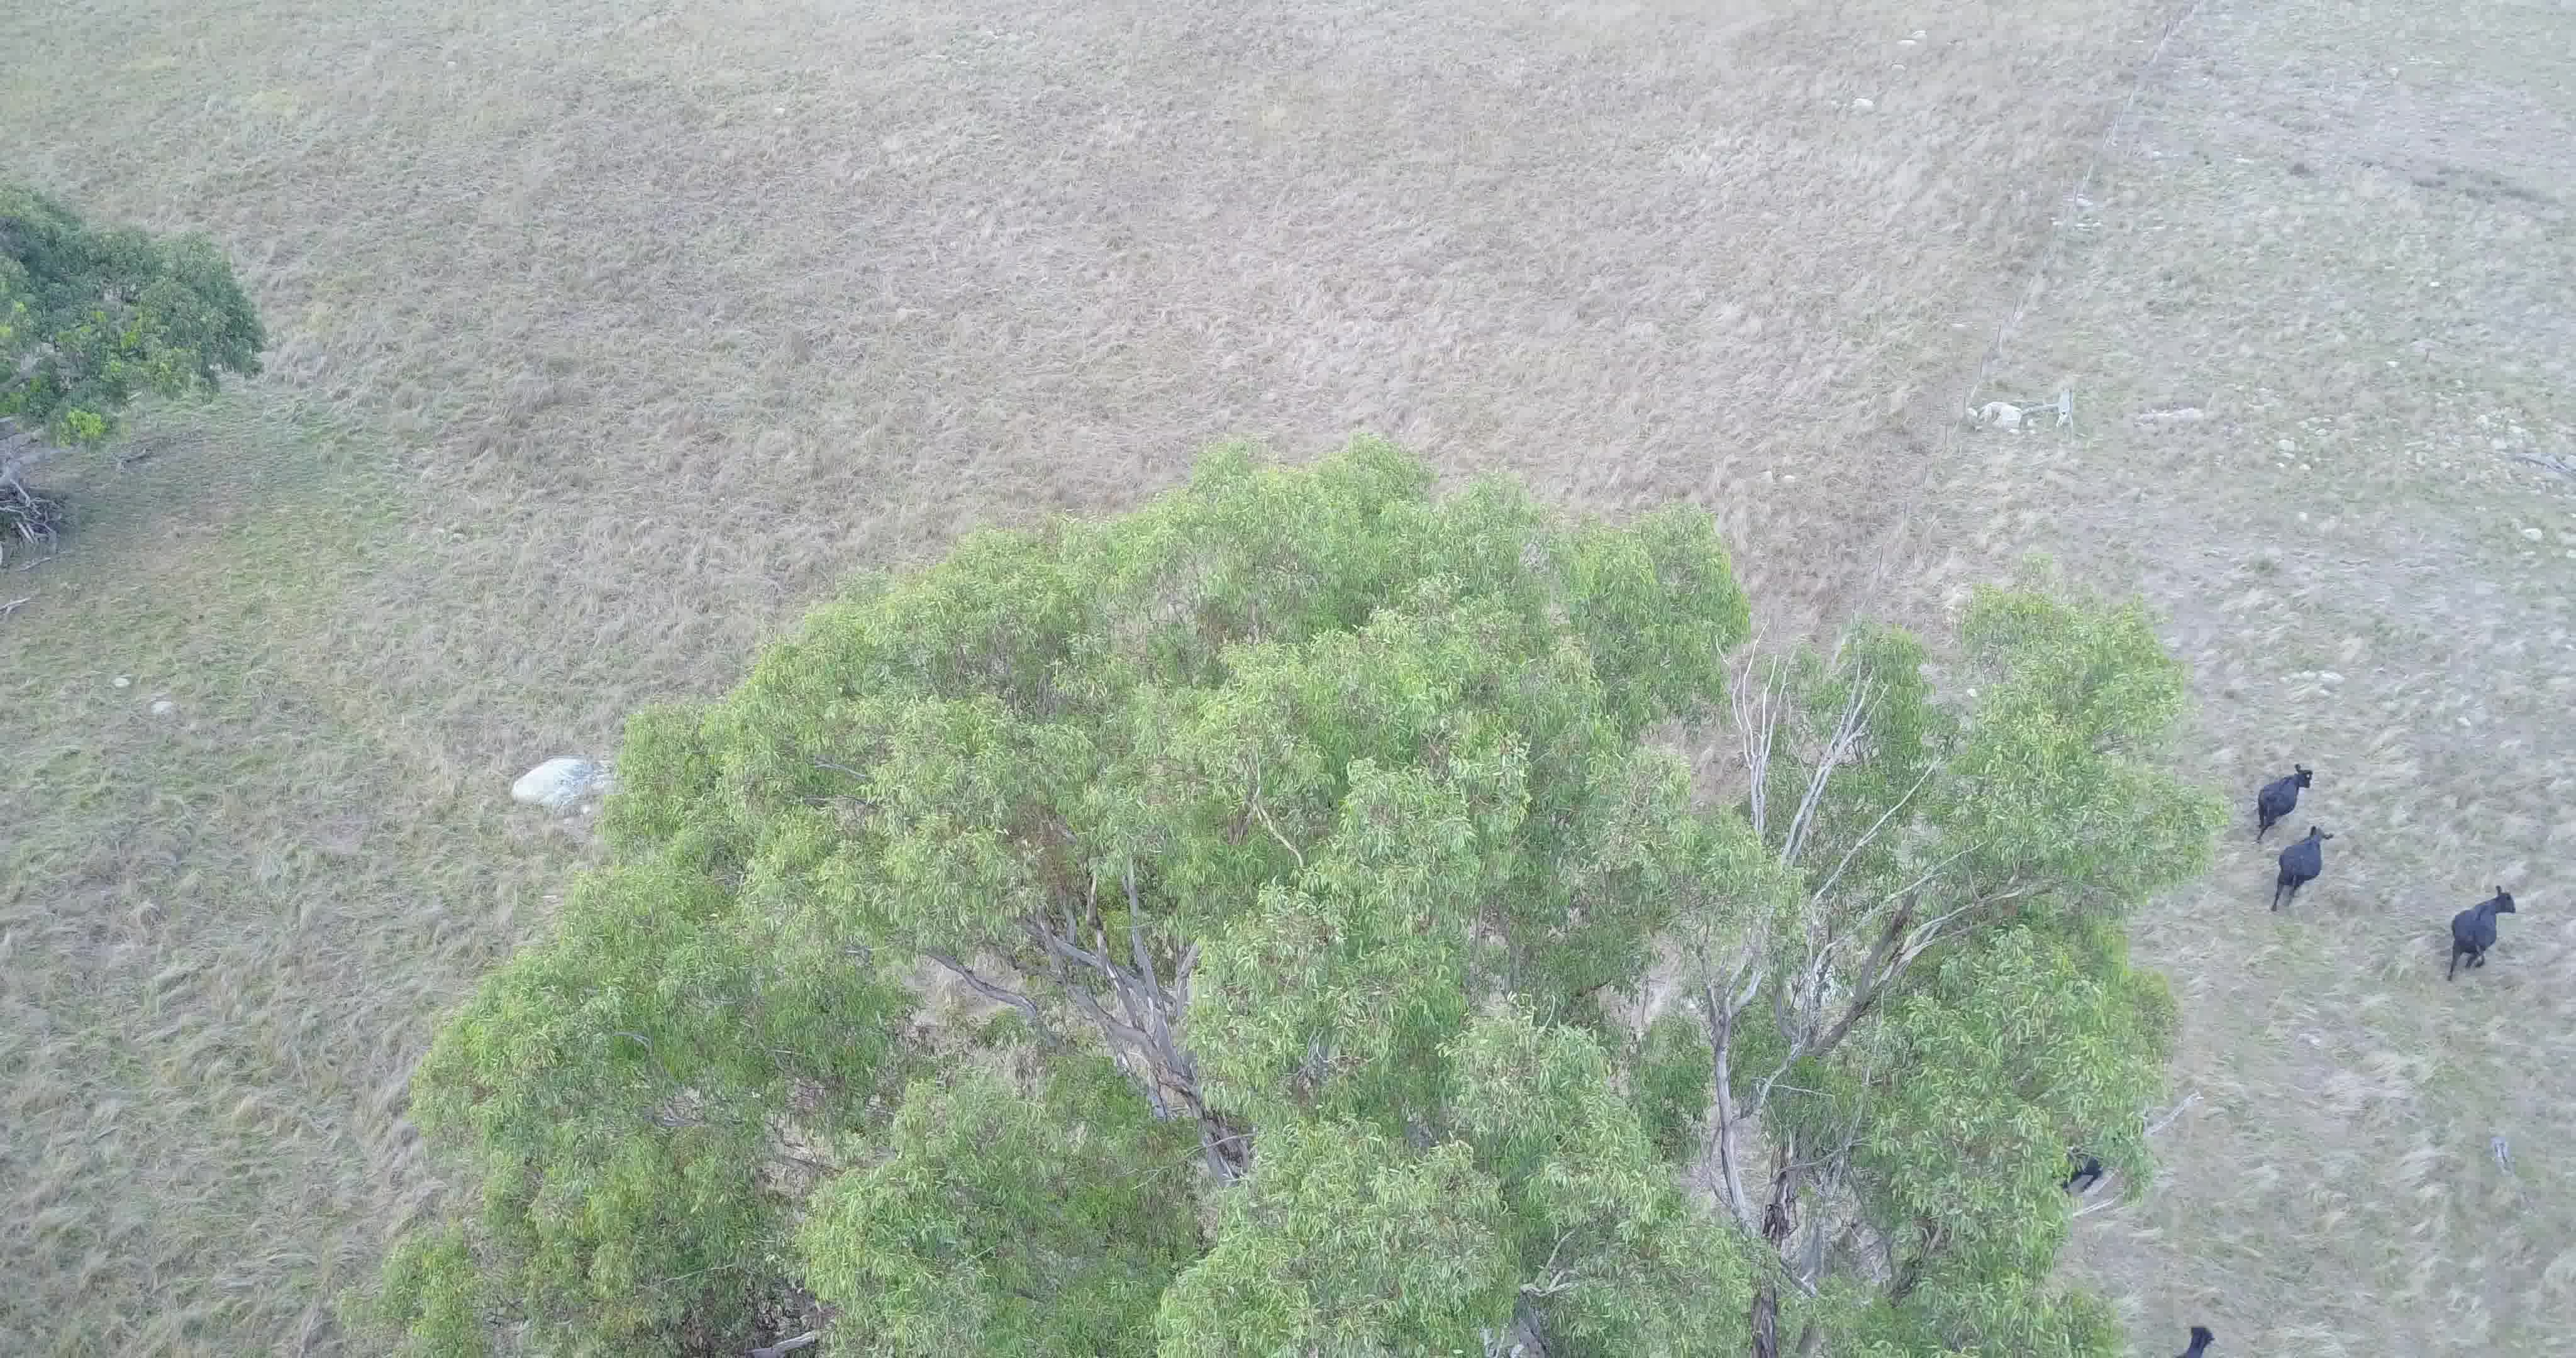cattle: (2441, 879, 2518, 988), (2269, 821, 2339, 922), (2252, 760, 2315, 826), (2153, 1321, 2223, 1358)
